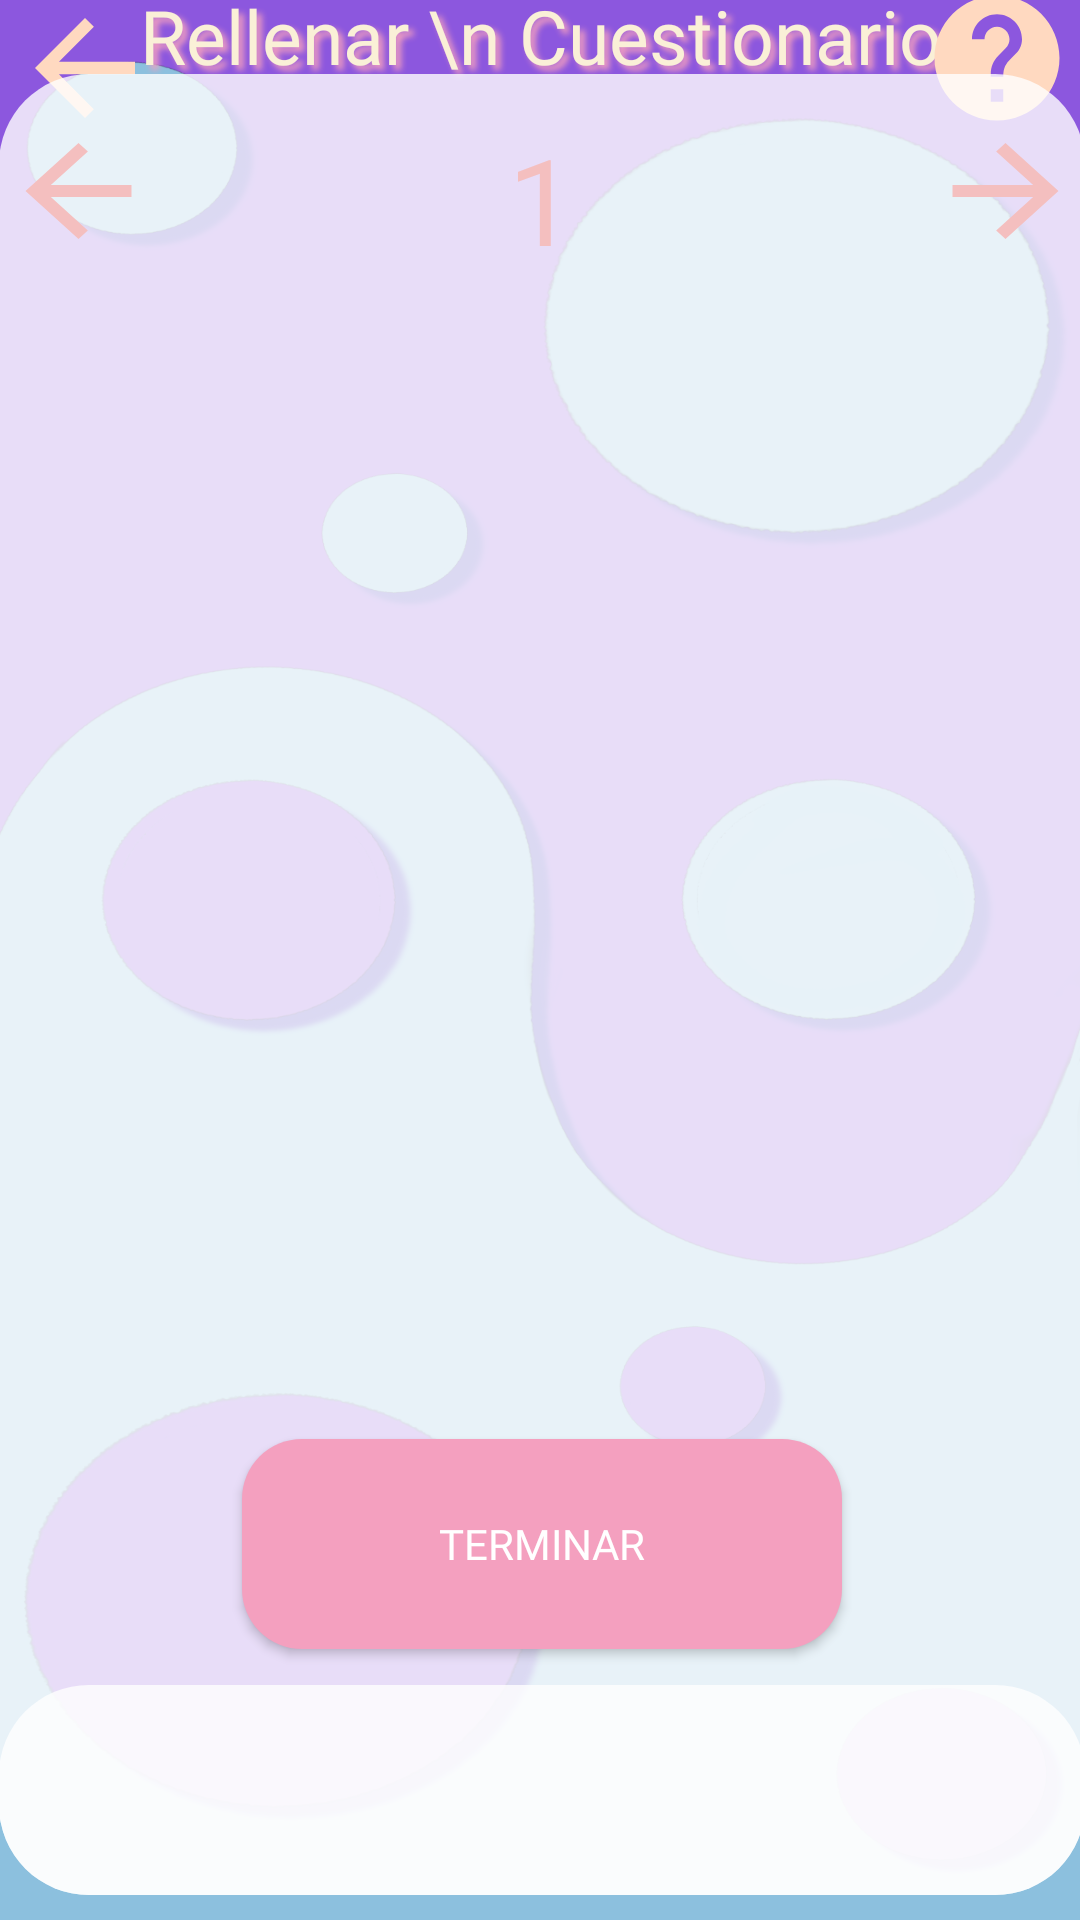

Where to tap for icons on this 1080 x 1920 app screen, as [x,y]:
arrow back: [85,71]
question arrow back: [79,181]
question arrow forward: [1005,191]
